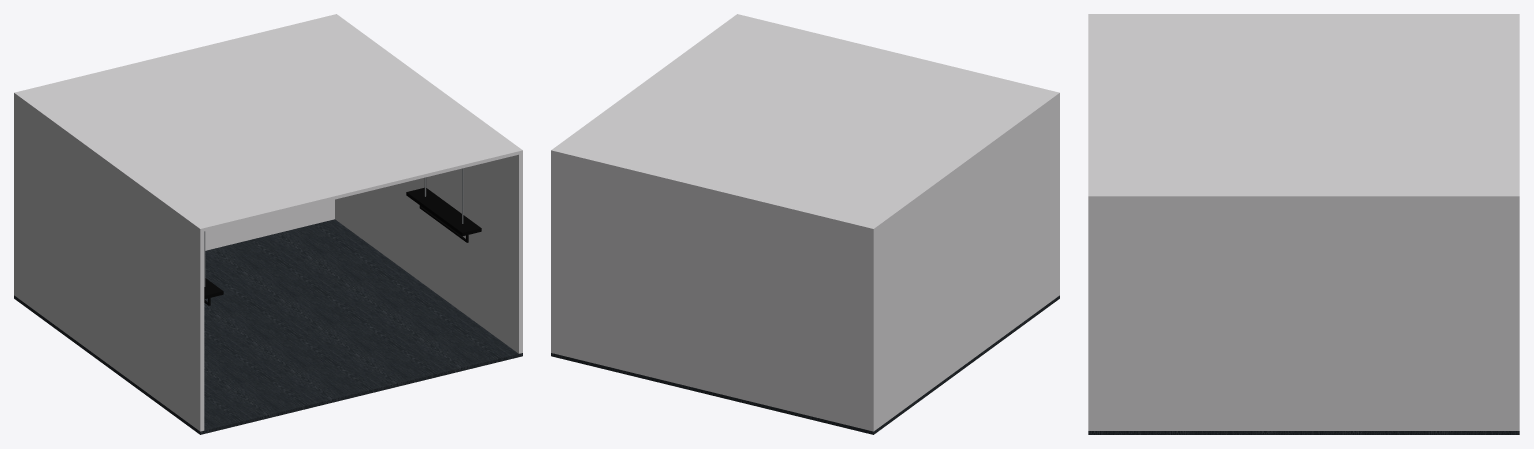
Rendered from MADE-Store.gltf.
3 renders of one model, left to right at view 1: azimuth 30°, elevation 25°; view 2: azimuth 150°, elevation 25°; view 3: azimuth 270°, elevation 25°, orthographic. The views are drawn at different scales.
Parts seen in each view (by area): view 1: object_17, object_13, object_16, object_14, object_15, object_22; view 2: object_15, object_17, object_16, object_13, object_14; view 3: object_14, object_17, object_15, object_13, object_16.
Boxes of the visible parts, x1,y1,x2,y2 form: object_17: [14, 14, 522, 231]; object_13: [14, 219, 522, 434]; object_16: [14, 92, 204, 431]; object_14: [334, 14, 522, 353]; object_15: [14, 14, 336, 295]; object_22: [406, 187, 481, 236]; object_15: [551, 149, 875, 431]; object_17: [551, 14, 1059, 228]; object_16: [869, 92, 1059, 430]; object_13: [551, 295, 1059, 434]; object_14: [551, 14, 740, 353]; object_14: [1088, 194, 1519, 430]; object_17: [1088, 14, 1519, 200]; object_15: [1514, 14, 1519, 430]; object_13: [1088, 431, 1519, 434]; object_16: [1088, 14, 1514, 16].
Size of the model in its own units: 100 by 61 by 100.
4 materials, 2 textured.
